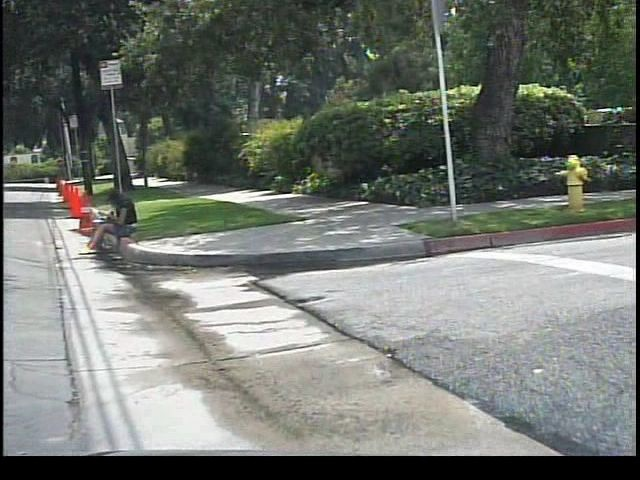person: (83, 185, 148, 256)
